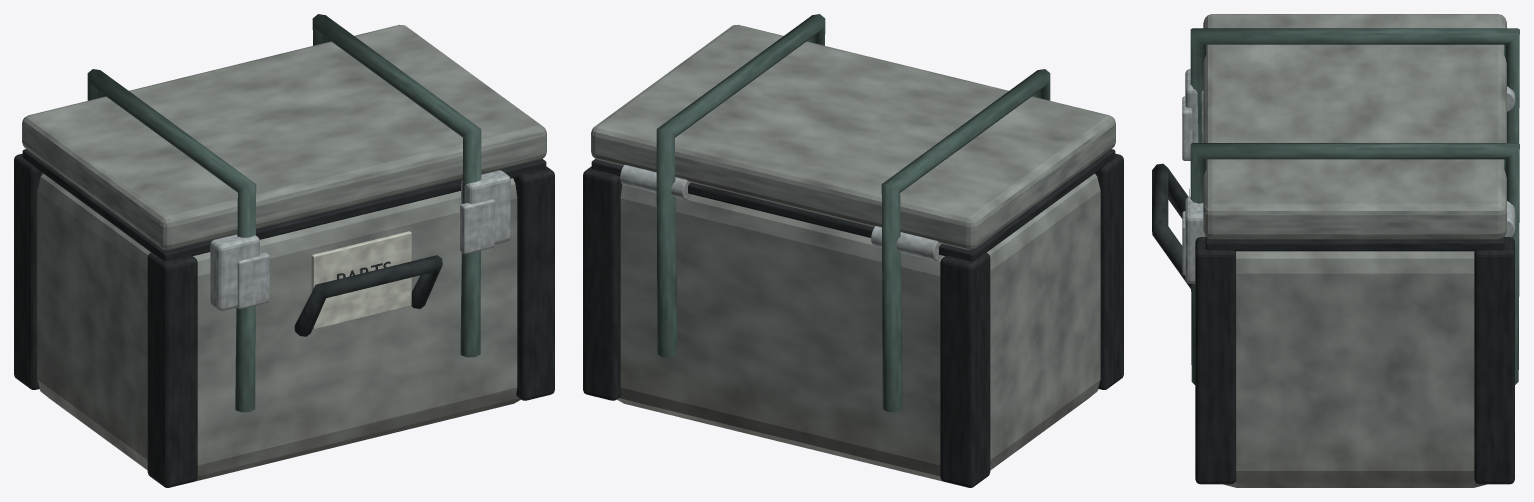
The model's file is GR_FieldStorageCase_02.glb.
3 views of the same model, side by side, from view 1: azimuth 30°, elevation 25°; view 2: azimuth 150°, elevation 25°; view 3: azimuth 270°, elevation 25° (orthographic). The views are drawn at different scales.
Parts seen in each view (by area): view 1: Static; view 2: Static; view 3: Static.
Boxes of the visible parts, x1,y1,x2,y2 form: Static: (14, 14, 554, 487); Static: (583, 14, 1123, 487); Static: (1152, 14, 1519, 487).
Size of the model in its own units: 0.5556 by 0.4091 by 0.4338.
Materials: 1 (1 with a texture image).
